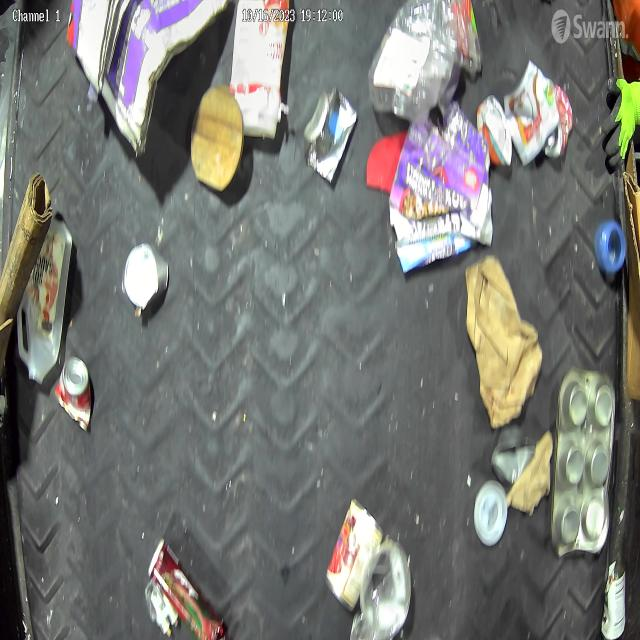can: (323, 497, 384, 614), (503, 60, 558, 166), (303, 86, 358, 186), (121, 242, 169, 315), (490, 423, 539, 487), (54, 355, 93, 433), (476, 95, 514, 168), (543, 80, 574, 163), (600, 558, 627, 640)
milk_jug: (15, 216, 74, 386)
